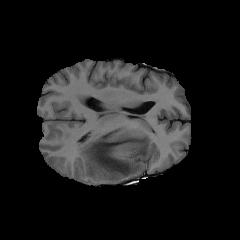glioma: (76, 126, 151, 182)
